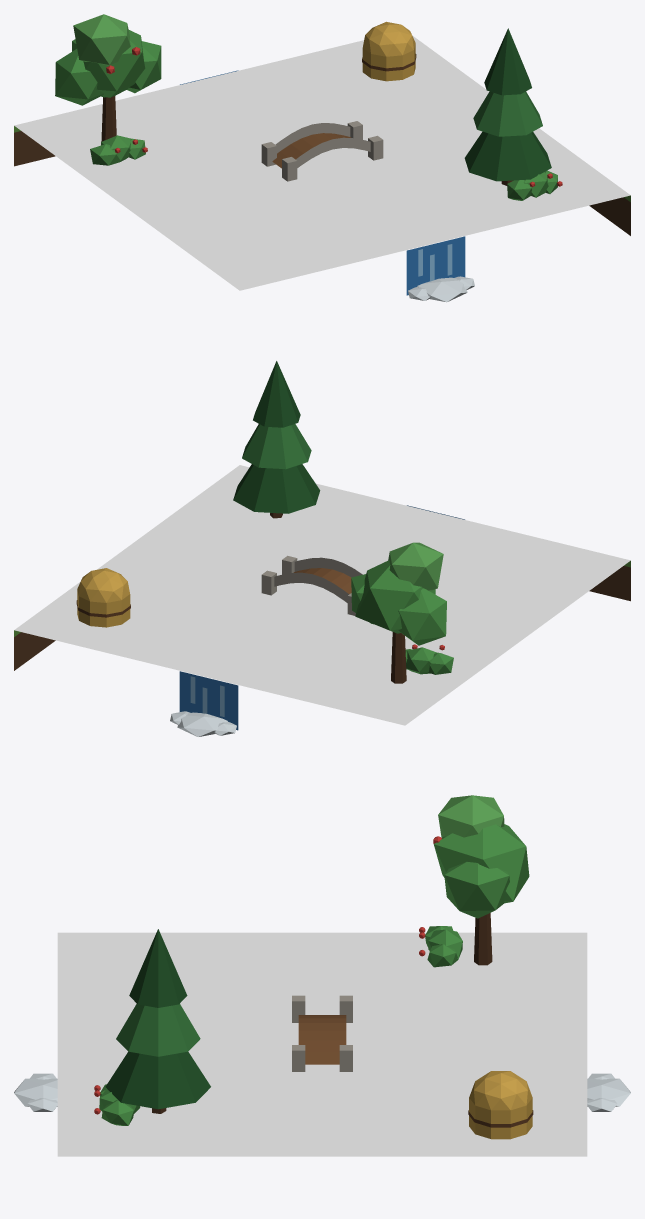
The model's file is wBr.glb.
3 views of the same model, one above another, from view 1: azimuth 30°, elevation 25°; view 2: azimuth 150°, elevation 25°; view 3: azimuth 270°, elevation 25° (orthographic). The views are drawn at different scales.
Visible parts, largest first — view 1: wBr, fall_S; view 2: wBr, fall_N; view 3: wBr, fall_N, fall_S.
Boxes of the visible parts, x1,y1,x2,y2 form: wBr: (14,14,630,290); fall_S: (406,236,474,302); wBr: (14,361,630,725); fall_N: (170,671,238,736); wBr: (57,795,587,1156); fall_N: (587,1073,630,1111); fall_S: (14,1073,57,1111).
Bounding box in the file's own units: 2 × 0.9925 × 2.33.
